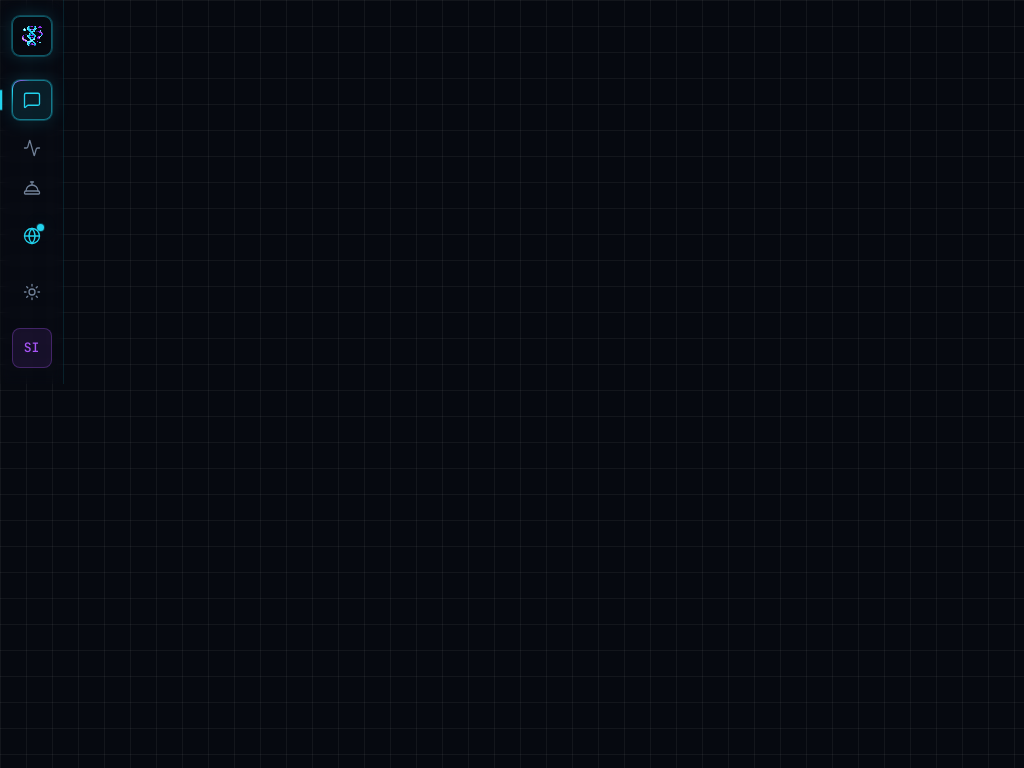
Test: T7 popover 启动按钮三态切换（契约 v0.9 web.start 显式启动通路） › connected 态：停止钮可用 + 启动钮禁用；两钮恒渲染（焦点守恒，不按态卸载）
Click the button with id "btn-web-status": {"x": 32, "y": 236} [12,216,52,256]
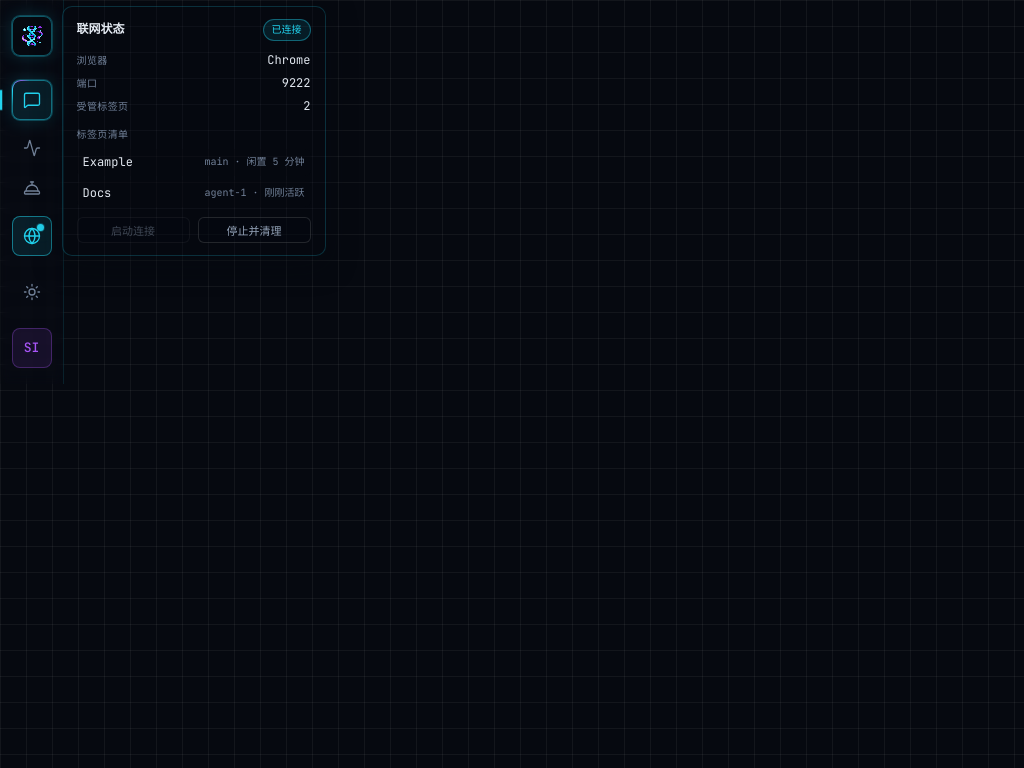
Expected: the button with id "btn-web-stop" is enabled, [198,217,310,243]
Expected: the button with id "btn-web-start" is disabled, [76,217,190,243]
